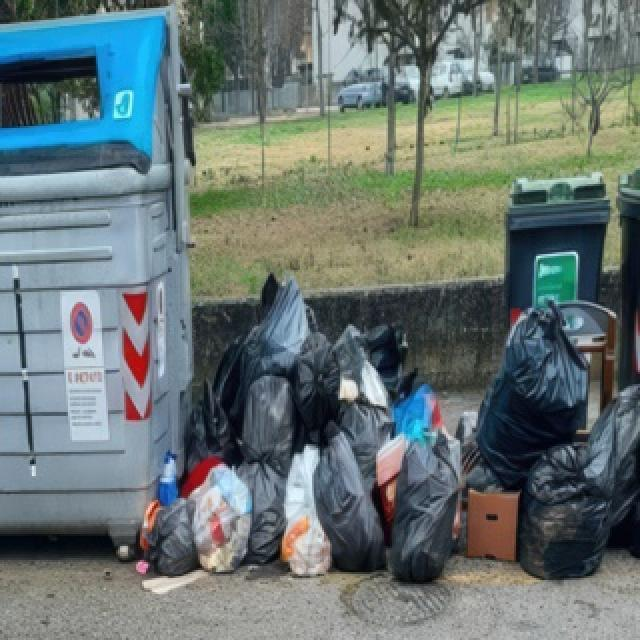Trashbag: (476, 312, 593, 470), (520, 450, 621, 584), (384, 436, 466, 584), (316, 425, 392, 571), (324, 318, 406, 435), (236, 273, 313, 384), (244, 372, 303, 474), (243, 462, 290, 554), (148, 498, 199, 580), (194, 400, 232, 460)
